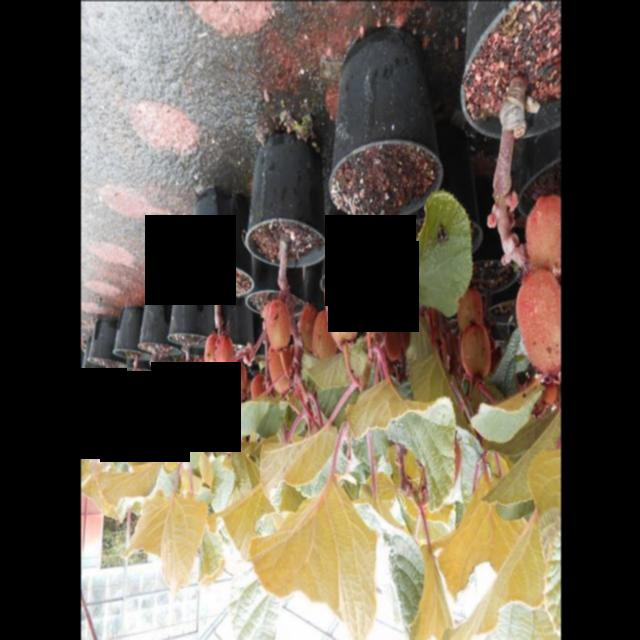kiwi: (515, 268, 561, 376), (525, 197, 560, 280), (324, 265, 359, 347), (353, 232, 386, 311), (460, 323, 490, 380), (312, 310, 337, 372), (268, 339, 293, 396), (268, 300, 291, 353), (458, 288, 483, 335), (162, 394, 182, 443), (299, 304, 317, 353), (227, 361, 247, 403), (204, 335, 220, 384), (215, 335, 233, 378), (385, 321, 402, 362), (250, 374, 267, 415), (195, 377, 212, 412), (177, 371, 193, 407), (540, 379, 556, 407), (142, 402, 154, 425), (109, 432, 122, 452), (93, 417, 104, 437), (85, 380, 95, 402), (99, 427, 110, 446), (122, 403, 133, 422), (116, 383, 126, 403), (96, 374, 105, 393), (118, 401, 127, 419)
